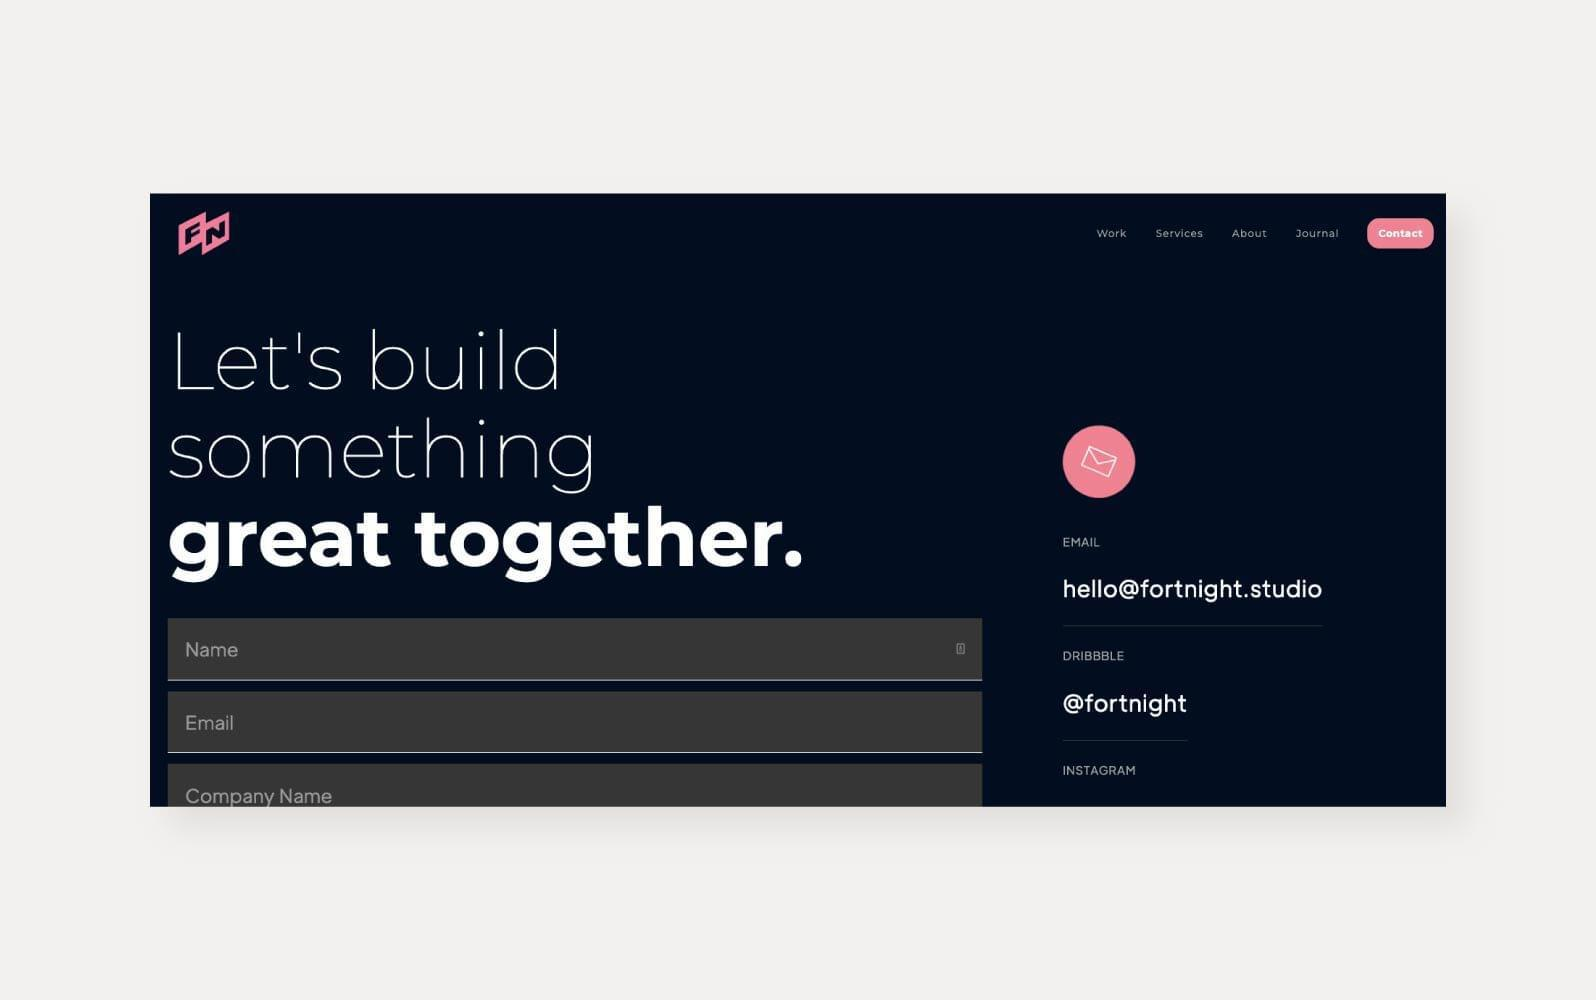button: (1369, 218, 1435, 250)
input: (164, 688, 987, 759), (165, 615, 987, 685)
label: (1056, 762, 1142, 780), (1062, 647, 1127, 666), (1155, 228, 1206, 242), (1064, 533, 1102, 551), (1295, 228, 1342, 240), (1097, 228, 1128, 241), (1231, 228, 1267, 238)
